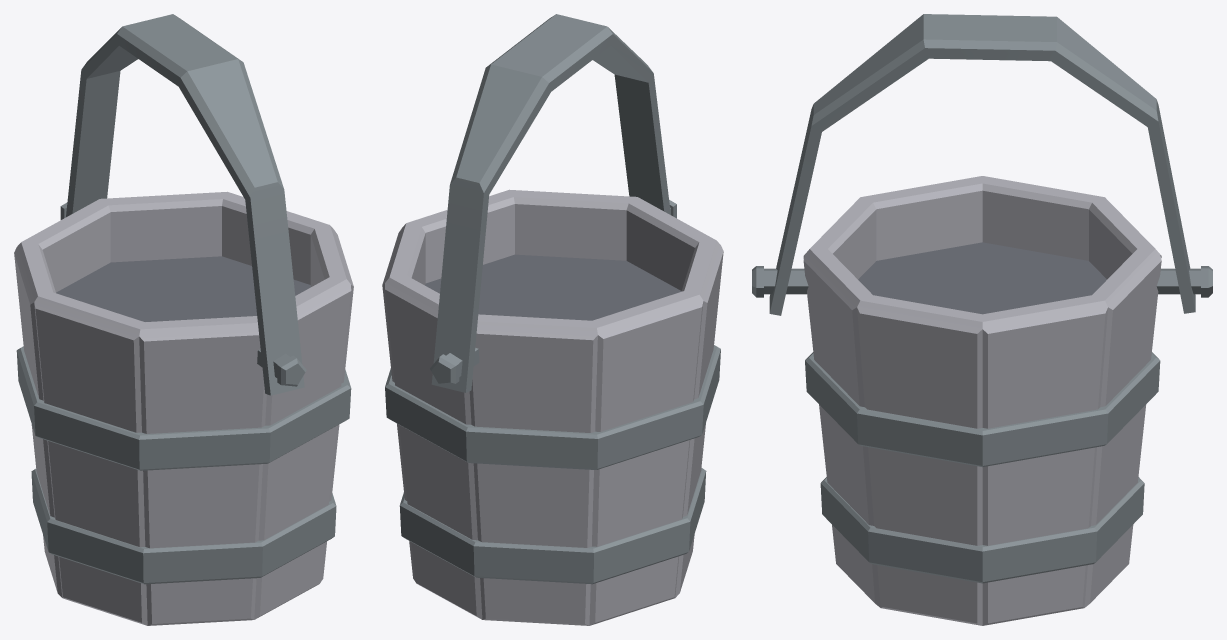
Rendered from bucket_a.gltf.
3 renders of one model, left to right at view 1: azimuth 30°, elevation 25°; view 2: azimuth 150°, elevation 25°; view 3: azimuth 270°, elevation 25°, orthographic. The views are drawn at different scales.
Visible parts, largest first — view 1: bucket_a001; view 2: bucket_a001; view 3: bucket_a001.
Part boxes in pixels (x1,y1,x2,y2): bucket_a001: [14, 14, 353, 625]; bucket_a001: [382, 14, 723, 625]; bucket_a001: [752, 14, 1212, 625].
Bounding box in the file's own units: 0.2707 × 0.4489 × 0.3482.
Materials: 1 (1 with a texture image).
